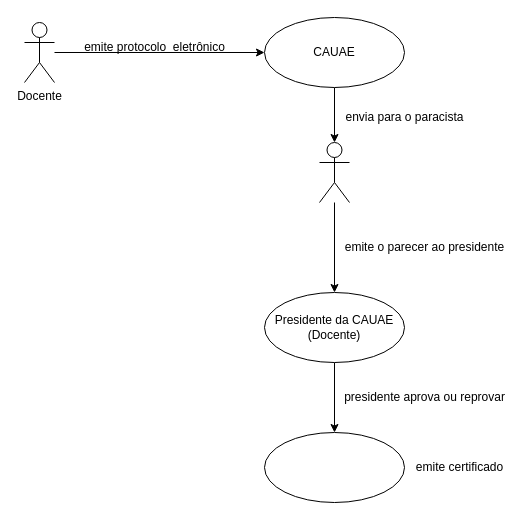
This 532x520 diagram has some shape labels left out. The centre of each missing label's shape, as x and y in pixels:
"Parecista (Docente)" goes at (x=334, y=172).
"Secretária da CAUAE" goes at (x=334, y=467).
